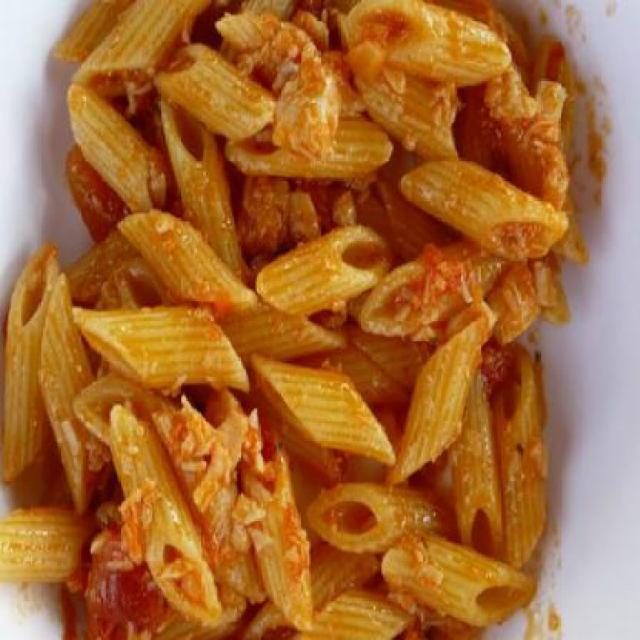Pasta al ragu: (34, 10, 608, 633)
